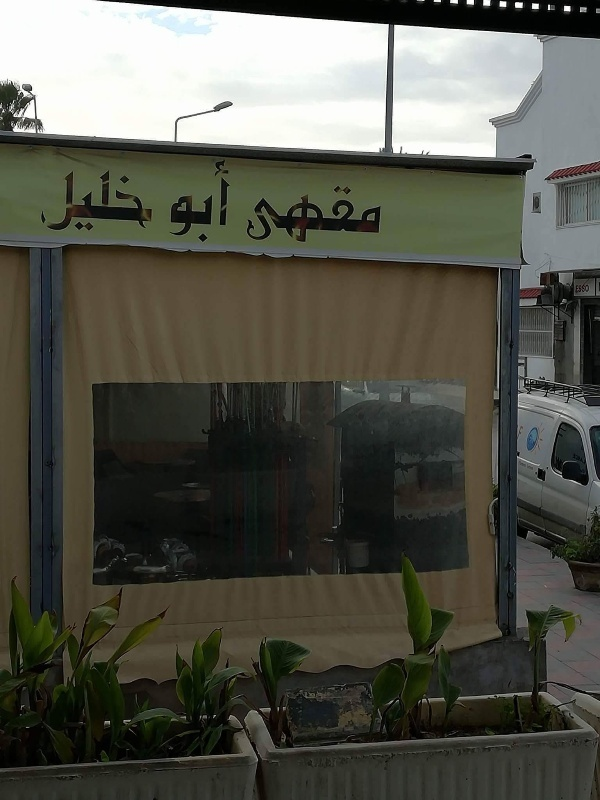text: (177, 159, 192, 245), (193, 159, 208, 245), (209, 159, 224, 245), (49, 167, 64, 236), (65, 167, 80, 236), (81, 167, 96, 236), (97, 167, 112, 236), (113, 167, 128, 236), (129, 167, 144, 236), (257, 182, 272, 246), (273, 182, 288, 246), (289, 182, 304, 246), (305, 182, 320, 246), (321, 182, 336, 246), (337, 182, 352, 246), (353, 182, 368, 246), (369, 182, 384, 246), (145, 167, 156, 236), (225, 159, 232, 245), (248, 182, 256, 246), (44, 167, 48, 236), (577, 453, 588, 467), (577, 284, 590, 293), (519, 460, 528, 473), (520, 426, 528, 440), (529, 460, 536, 473), (175, 159, 176, 245), (574, 453, 576, 467)
